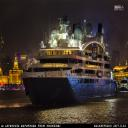cruises: (22, 16, 120, 108)
